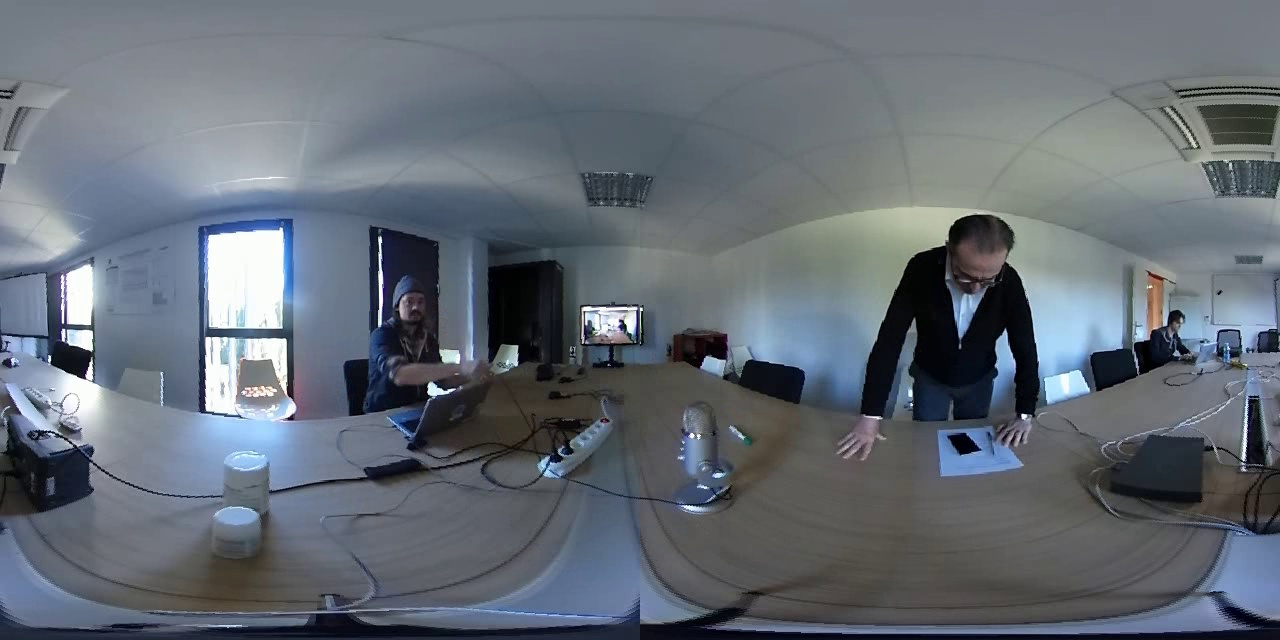person: (870, 200, 1034, 427), (364, 268, 470, 386), (1152, 300, 1197, 359)
